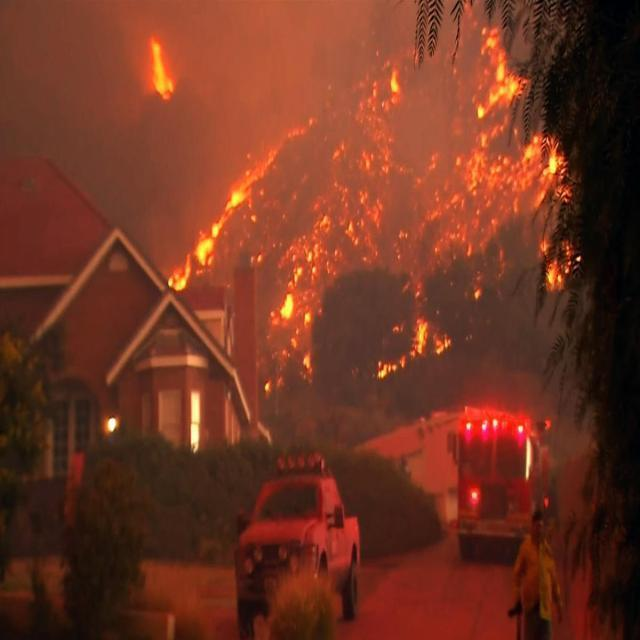Fire: (336, 27, 574, 288), (176, 114, 330, 388), (377, 314, 452, 380), (150, 38, 178, 96)
Smoke: (0, 0, 135, 150), (186, 5, 332, 104)
